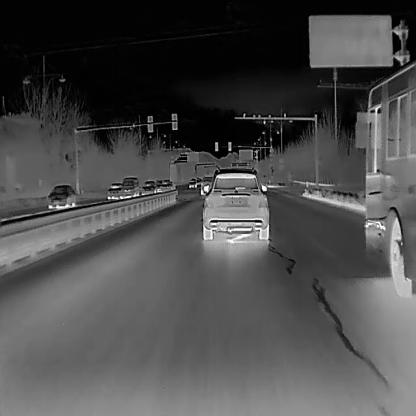bus: (354, 56, 416, 297)
car: (201, 164, 269, 240), (46, 184, 76, 208), (121, 176, 138, 198), (106, 180, 121, 199), (140, 180, 156, 194), (200, 175, 211, 195), (162, 178, 172, 191), (187, 177, 197, 188), (154, 178, 161, 192)
